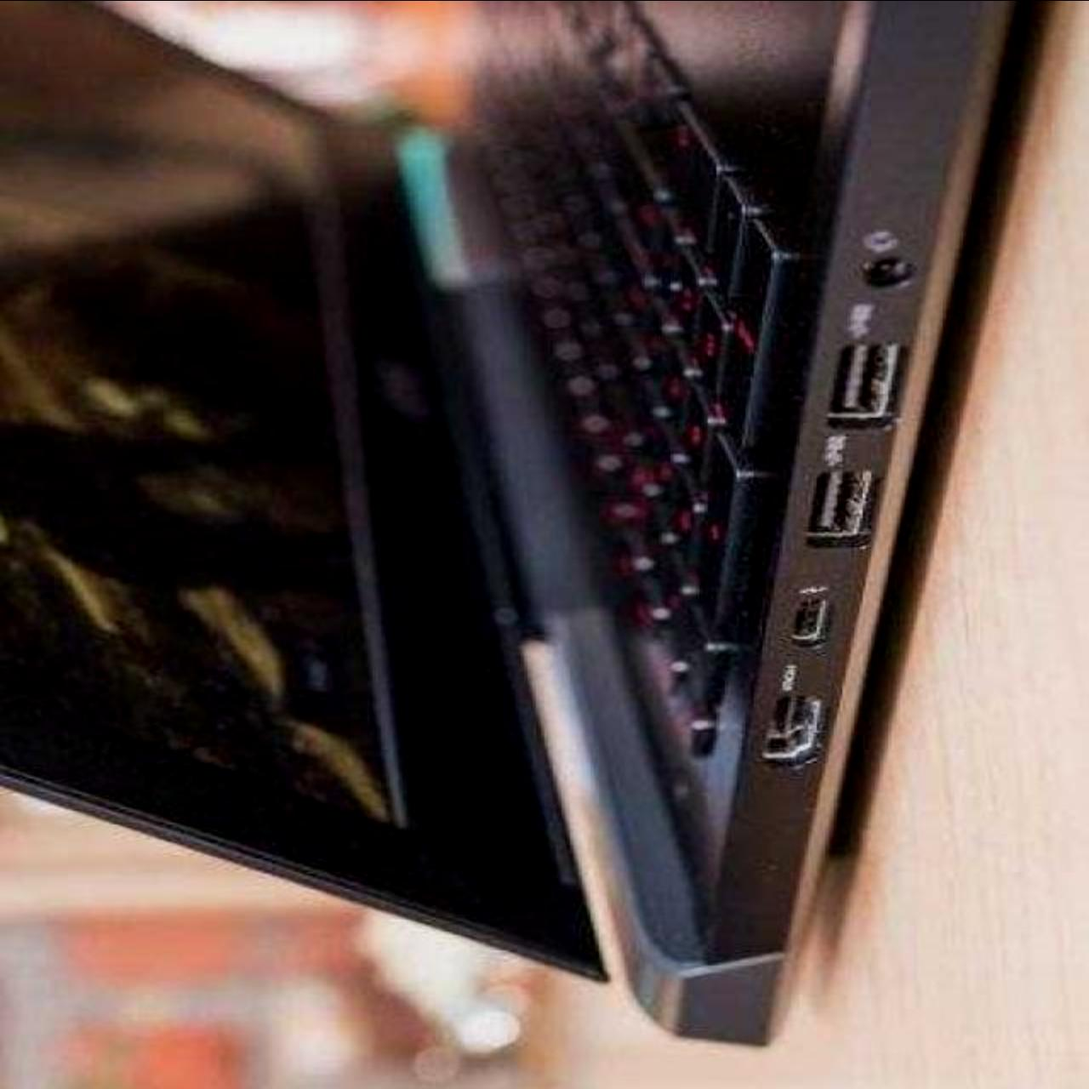laptop: (3, 14, 1038, 1018)
